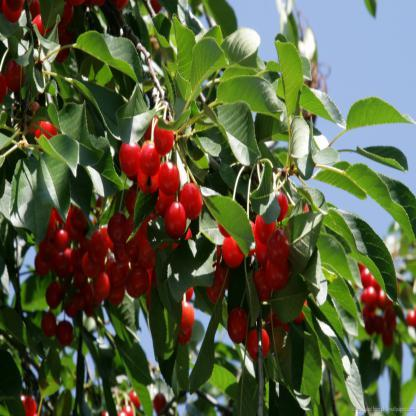Cherry leaf: (320, 195, 404, 310), (199, 89, 268, 178), (71, 30, 149, 100), (336, 87, 416, 149), (32, 137, 76, 234), (18, 146, 53, 258), (353, 128, 414, 181)
